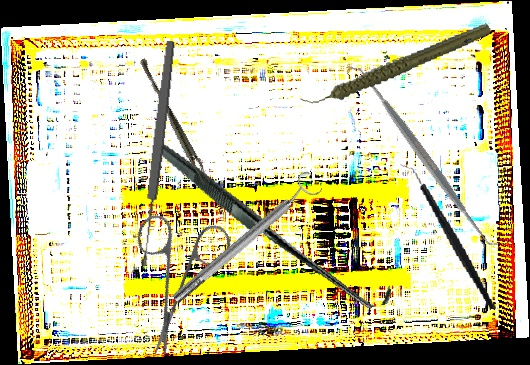Chopper: (398, 152, 497, 321)
Fixation Ring: (165, 169, 325, 310)
Handpiece: (292, 21, 500, 108)
Hook Surgical: (158, 101, 394, 347)
Iris Scissors: (90, 186, 265, 360)
Spatula Surgical: (343, 53, 502, 258)
Surgical Spoon: (136, 40, 178, 267)
Tissue Forceps: (134, 57, 214, 187)
